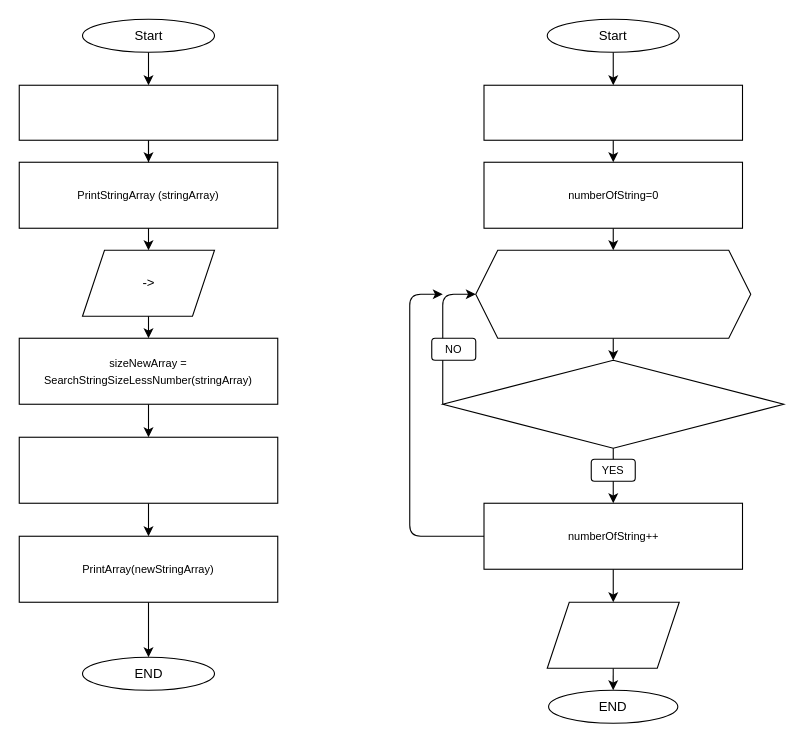
The diagram is 803 pixels wide and 743 high, and some of its shapes have lost their labels. Here are the shapes that lost their labels. From the top down, the centre of each, then its label:
point 148,112: stringArray = ["hello", "2", "world", ":-)"] -> ["2", ":-)"]
point 613,112: SearchStringSizeLessNumber(stringArray)
point 613,293: i = 0; i < stringArray.Lenght; i++
point 613,403: strinngArray [ i ] < 4
point 148,469: newStringArray = CreateArrayWidthSizeLessNumber(stringArray, sizeNewArray)
point 612,634: return numberOfString
